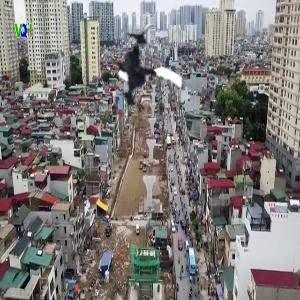drone: (95, 25, 192, 122)
